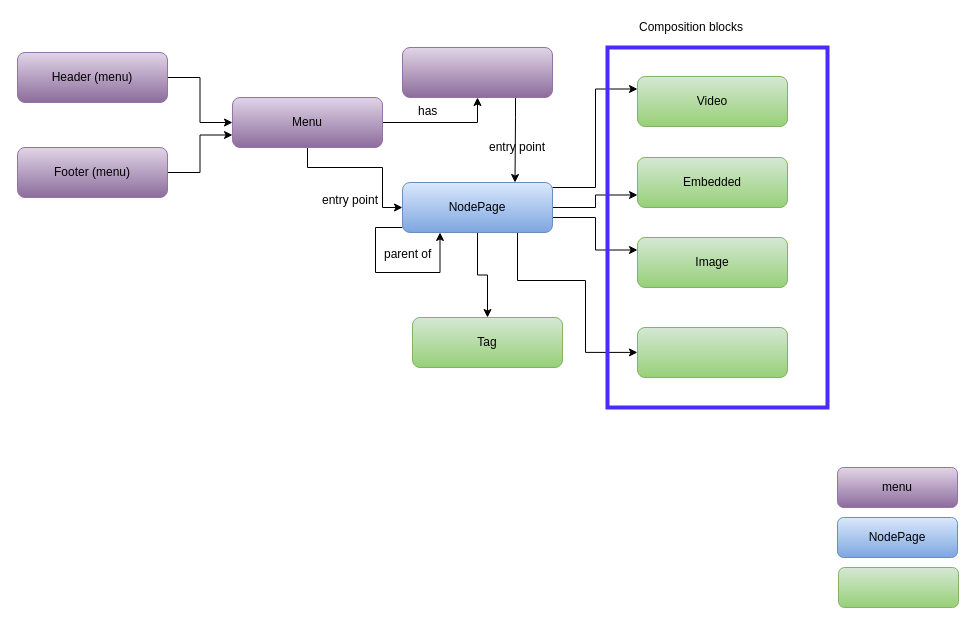
Image size: 976x625. Some labels were removed from this diagram. The centre of each missing label's shape, as x and y in pixels:
"components for nodePage" goes at (898,587).
"Html" goes at (712,352).
"Submenu" goes at (477,72).
